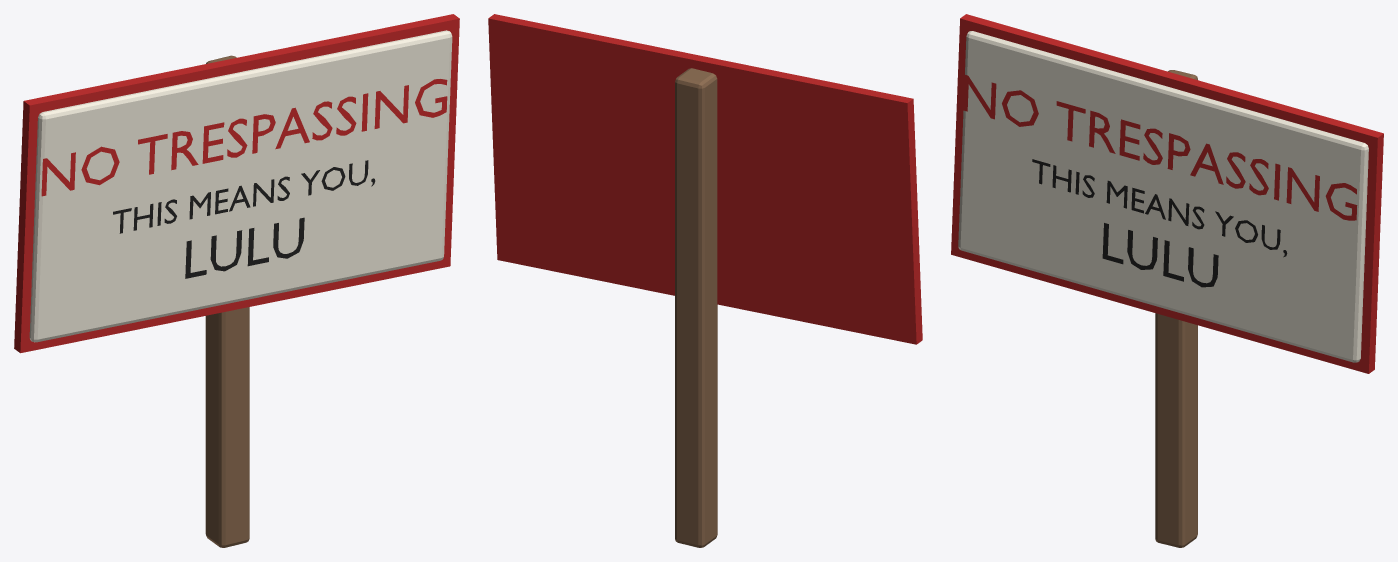
The model's file is foot_trespass.glb.
3 renders of one model, left to right at view 1: azimuth 30°, elevation 25°; view 2: azimuth 150°, elevation 25°; view 3: azimuth 330°, elevation 25°, orthographic. The views are drawn at different scales.
Parts seen in each view (by area): view 1: FootTrespass_body; view 2: FootTrespass_body; view 3: FootTrespass_body.
Part boxes in pixels (left/top/right/bottom): FootTrespass_body: left=14, top=14, right=459, bottom=547; FootTrespass_body: left=488, top=14, right=922, bottom=547; FootTrespass_body: left=951, top=14, right=1383, bottom=547.
Size of the model in its own units: 2.02 by 2.18 by 0.205.
